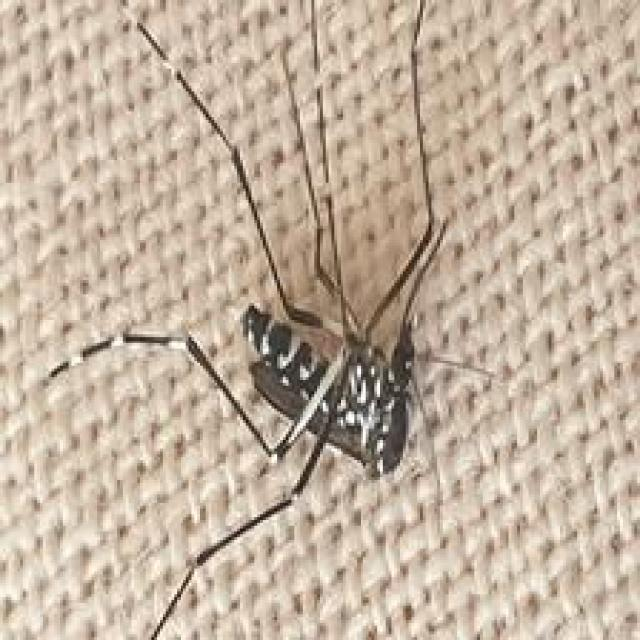Aedes albopictus: (41, 0, 496, 640)
